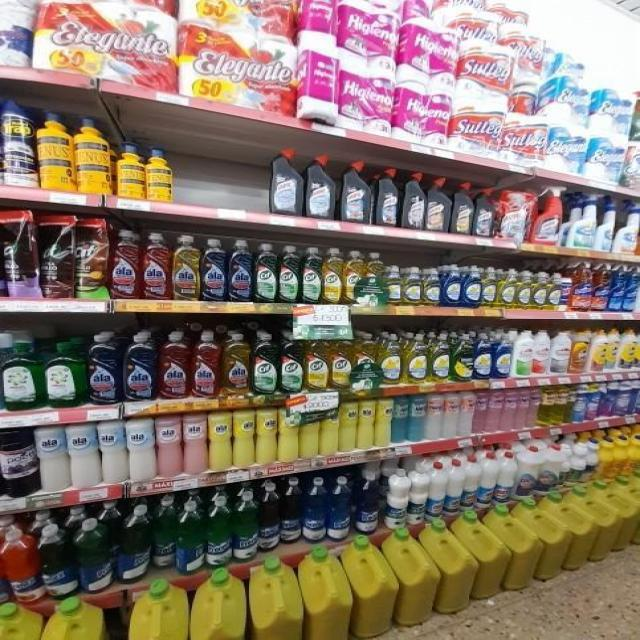ala_conc_amarillo: (172, 235, 200, 301), (222, 331, 250, 395)
ala_conc_azul: (88, 332, 120, 405), (124, 331, 156, 402), (201, 238, 227, 302), (228, 239, 252, 303)
ala_conc_rojo: (109, 229, 140, 300), (159, 331, 189, 400), (141, 232, 170, 300), (191, 331, 220, 398)
ala_crem_amarillo: (208, 410, 232, 472), (233, 409, 255, 468), (256, 408, 277, 466), (340, 401, 357, 453), (376, 397, 392, 448), (358, 399, 373, 450)
ala_crem_blanco: (37, 425, 68, 492), (68, 423, 99, 488), (127, 417, 155, 482), (99, 420, 126, 484), (408, 394, 424, 442)
ala_crem_rosado: (156, 414, 182, 479), (183, 412, 207, 475), (426, 393, 442, 440), (444, 392, 458, 437)
cif_conc_bot_amarilla: (306, 330, 330, 391), (352, 332, 378, 388), (331, 331, 352, 389), (322, 247, 342, 305), (344, 250, 364, 305), (365, 251, 384, 305)
cif_conc_botella_verde: (252, 332, 278, 394), (280, 330, 304, 393), (254, 243, 277, 303), (278, 245, 300, 304), (302, 247, 322, 304)
magistral_con_amarillo: (378, 332, 402, 386), (404, 333, 428, 384), (430, 333, 450, 383), (422, 266, 441, 306), (498, 267, 516, 308), (403, 266, 421, 306), (385, 265, 402, 306), (482, 266, 498, 308), (532, 270, 547, 309), (517, 269, 531, 309)
magistral_con_azul: (441, 264, 461, 307), (494, 332, 512, 379), (474, 333, 492, 380), (462, 265, 480, 307)
magistral_con_crema: (514, 330, 534, 377)
